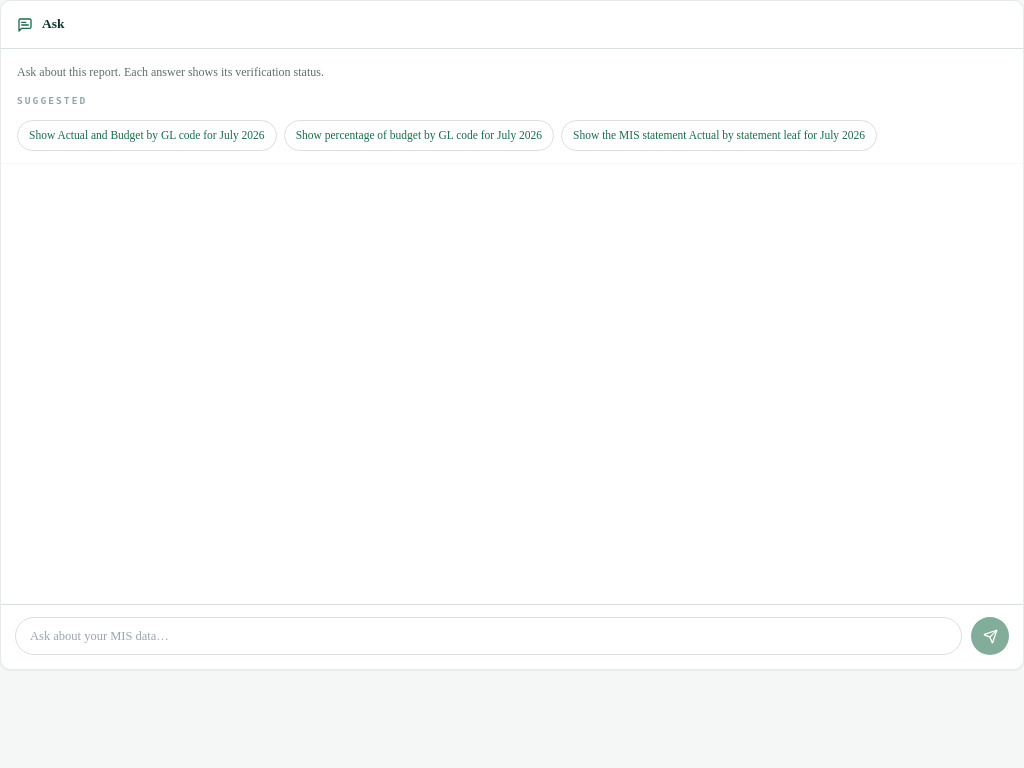
Test: an SAP account name that reads 'and 3 more' is disclosed as a name rather than a hidden count
Type "Show Actual by GL code" into the field labelled "Ask about your MIS data" at (488, 636), box [15,617,962,655]
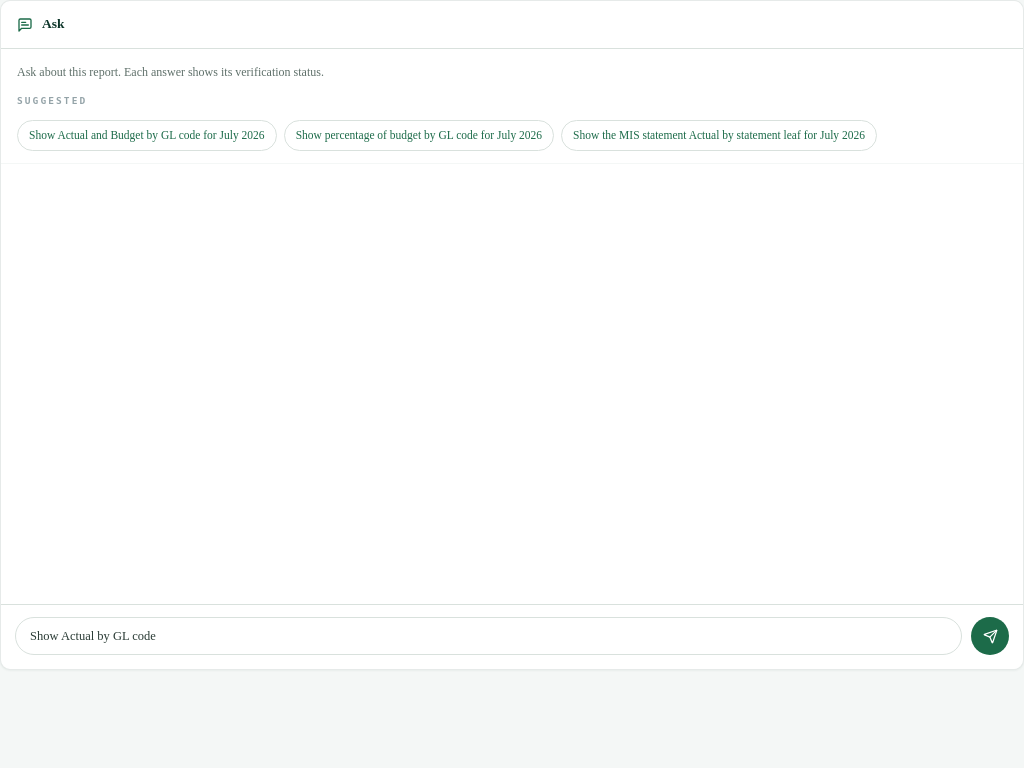
Click the button named "Send question" at (990, 636), box [971,617,1009,655]
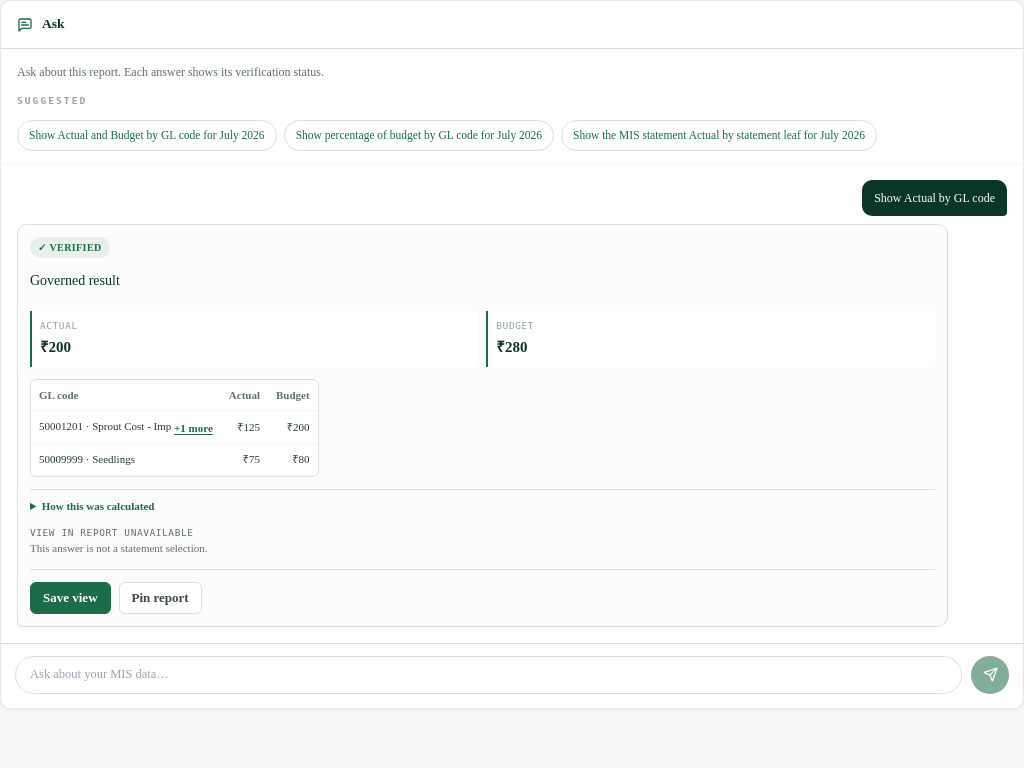
Expected: the button named "1 more account names: and 3 more" reads "+1 more"
Click the button named "1 more account names: and 3 more" at (194, 428), box [174,420,213,436]
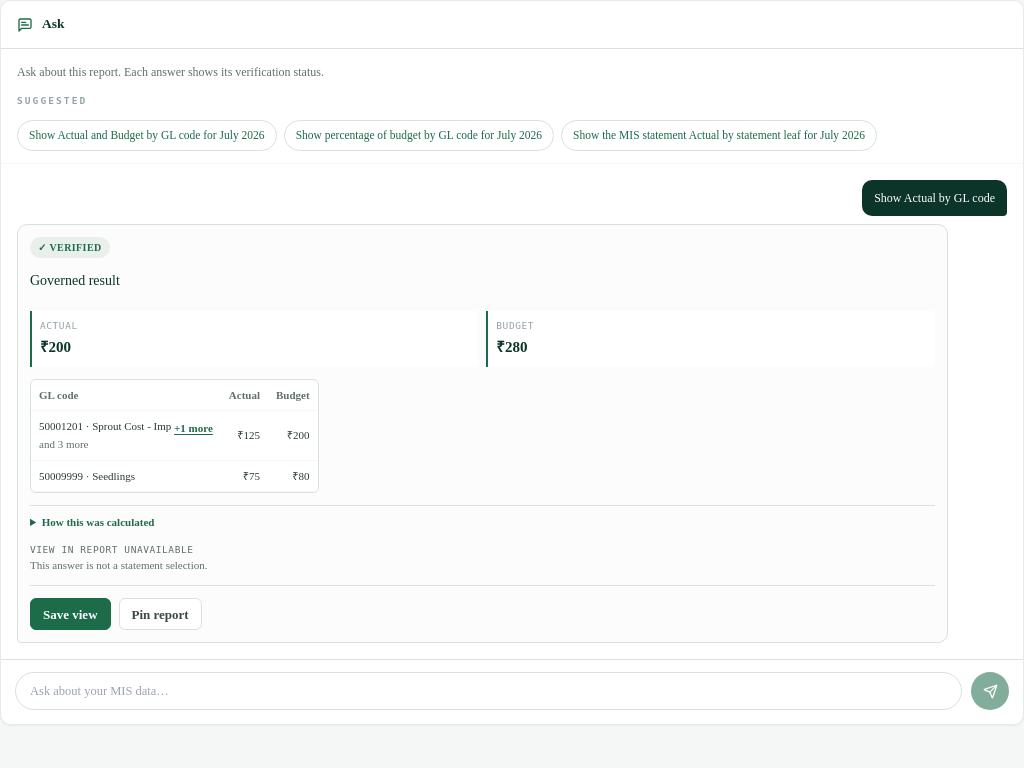
Expected: the list named "Other account names" reads "and 3 more", [39,438,88,450]
